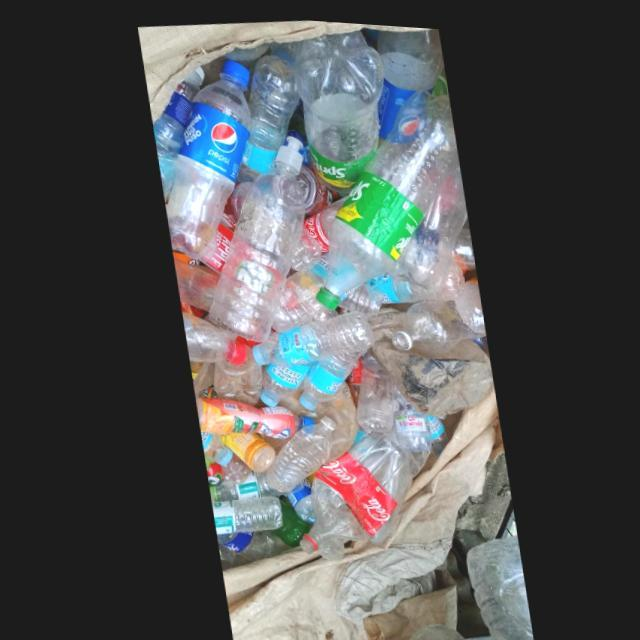plastic: (312, 84, 457, 305), (204, 131, 302, 339), (162, 55, 249, 257), (288, 24, 383, 191), (291, 426, 405, 549), (383, 154, 465, 285), (237, 50, 298, 178), (385, 274, 482, 348), (248, 305, 370, 363), (260, 410, 331, 488), (293, 347, 360, 405), (351, 341, 395, 429), (178, 309, 242, 361), (205, 491, 276, 532), (389, 380, 426, 446), (255, 359, 306, 402)
